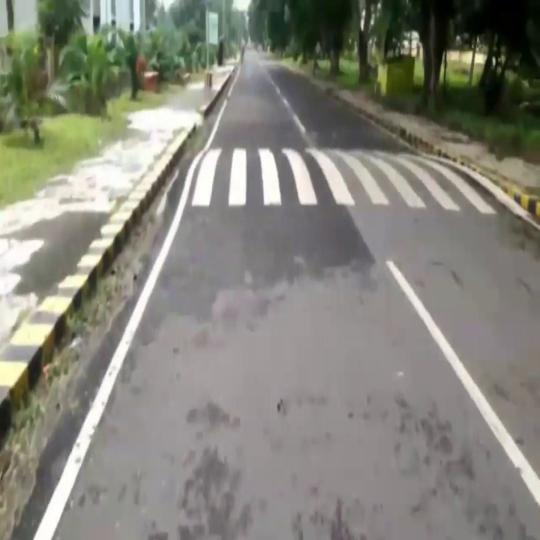Speed Bump: (166, 147, 506, 225)
